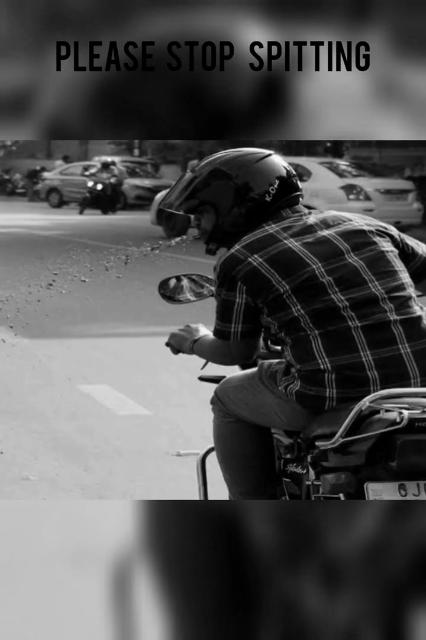spit: (0, 197, 211, 387)
